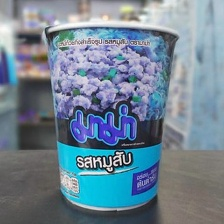paper_cup: (38, 18, 182, 217)
